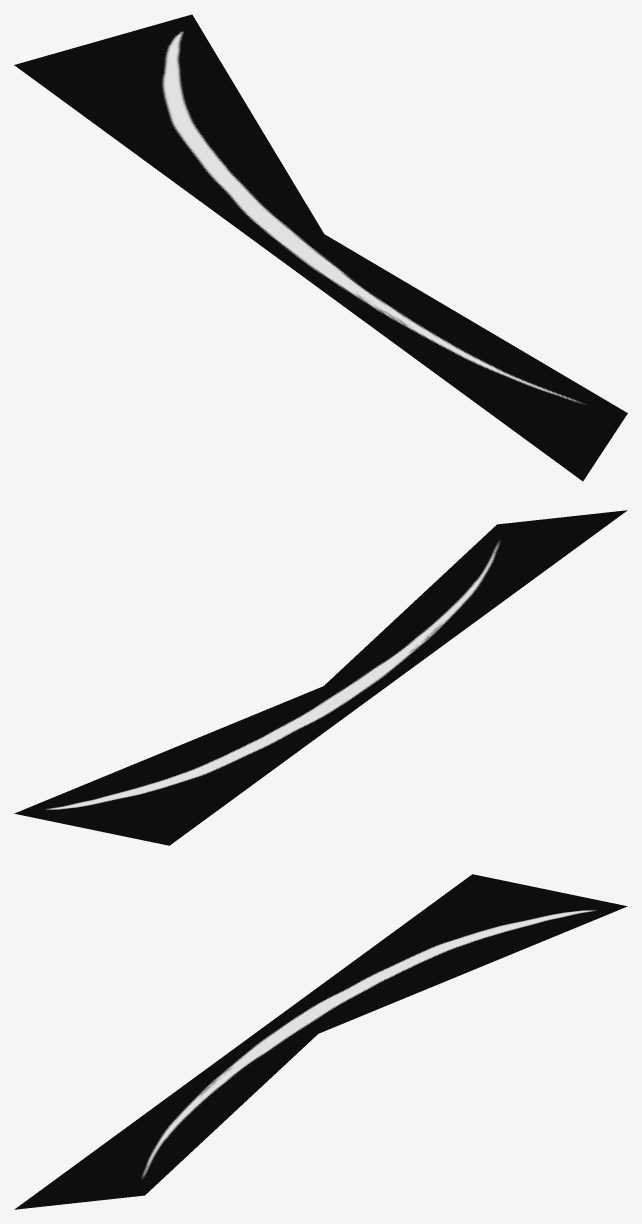
Rendered from SM_line_Round_1.fbx.
3 renders of one model, top to bottom at view 1: azimuth 30°, elevation 25°; view 2: azimuth 150°, elevation 25°; view 3: azimuth 330°, elevation 25°, orthographic. The views are drawn at different scales.
Visible parts, largest first — view 1: SM_line_Round_1; view 2: SM_line_Round_1; view 3: SM_line_Round_1.
Boxes of the visible parts, bbox=[...] form: SM_line_Round_1: bbox=[14, 14, 627, 481]; SM_line_Round_1: bbox=[14, 510, 627, 845]; SM_line_Round_1: bbox=[14, 874, 627, 1209].
Size of the model in its own units: 20.12 by 0 by 108.
